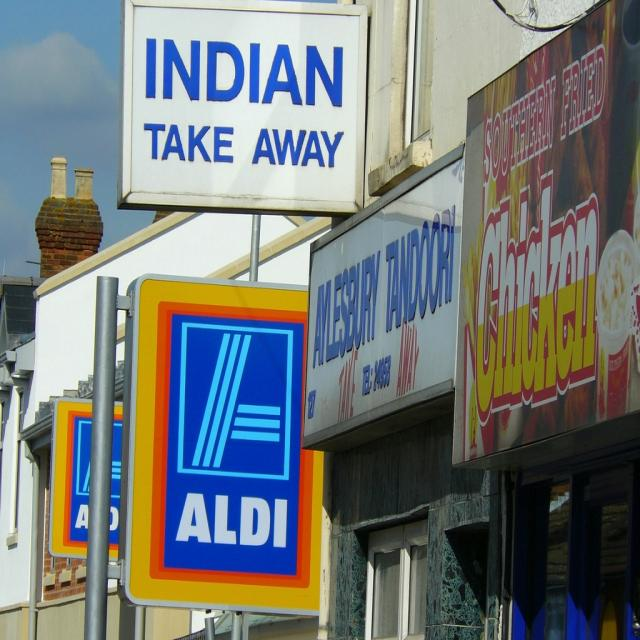aldi: (129, 280, 325, 614), (52, 404, 125, 565)
